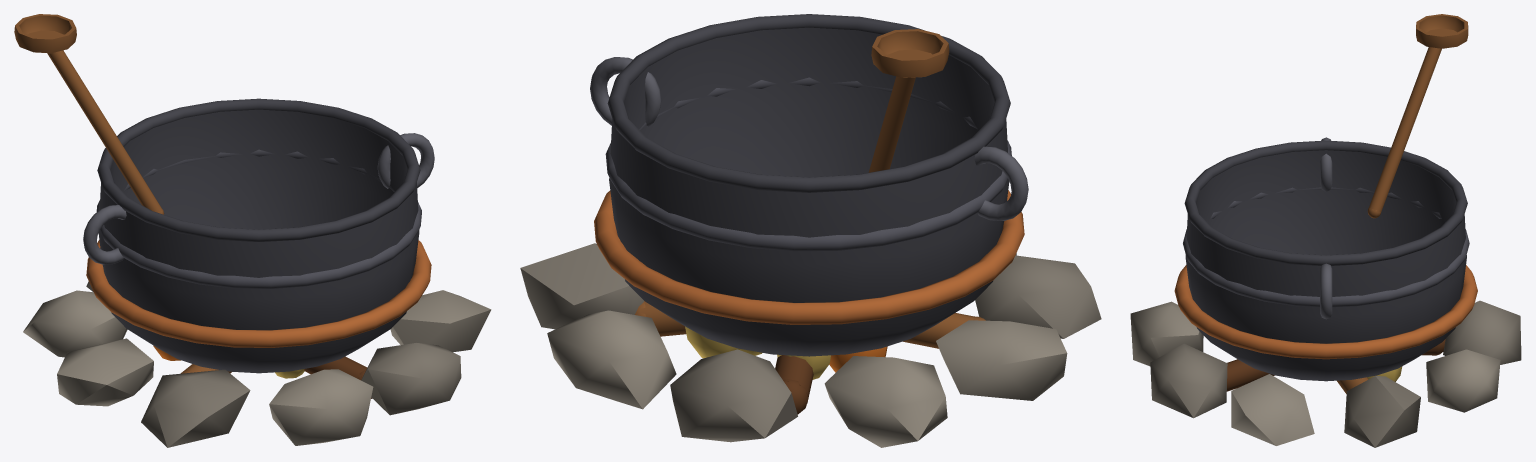
Rendered from cauldron.fbx.
The picture shows the model from 3 angles, left to right: view 1: azimuth 30°, elevation 25°; view 2: azimuth 150°, elevation 25°; view 3: azimuth 270°, elevation 25°; orthographic projection. The views are drawn at different scales.
Parts seen in each view (by area): view 1: cauldron; view 2: cauldron; view 3: cauldron.
Part boxes in pixels (x1=…): cauldron: x1=14, y1=14, x2=491, y2=447; cauldron: x1=520, y1=14, x2=1101, y2=447; cauldron: x1=1130, y1=14, x2=1521, y2=447.
Size of the model in its own units: 2.95 by 2.35 by 2.83.
